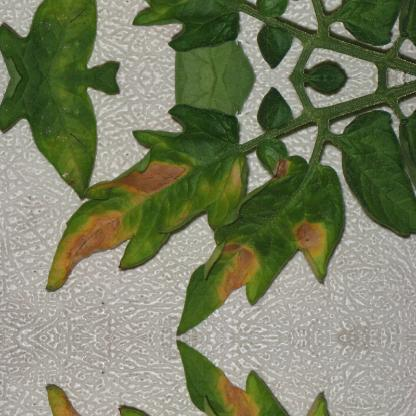Early-Blight: (48, 208, 134, 290), (89, 146, 191, 204), (209, 235, 275, 308), (209, 368, 275, 416), (291, 222, 343, 274), (48, 386, 134, 416), (291, 402, 343, 416), (270, 158, 302, 180)
